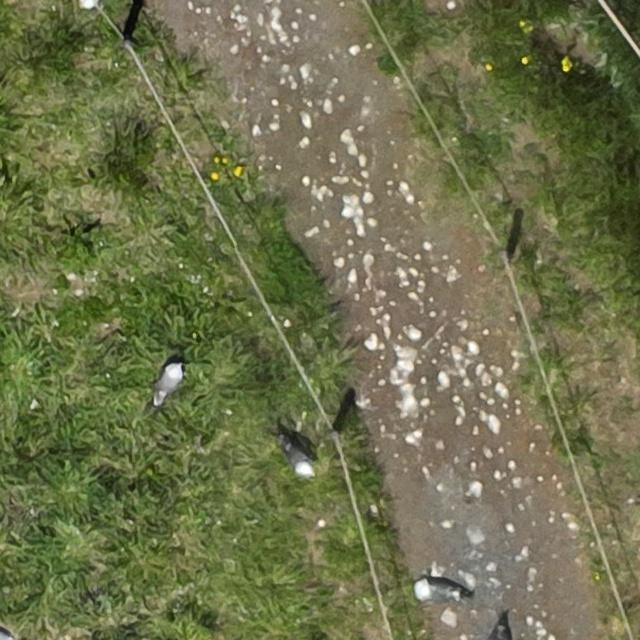umineko: (157, 364, 181, 401), (285, 442, 312, 474), (417, 583, 458, 601), (497, 624, 513, 639), (77, 0, 98, 7)
